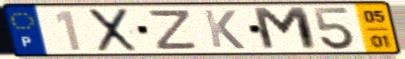1: (54, 9, 82, 52)
5: (310, 6, 357, 52)
K: (201, 8, 247, 50)
M: (250, 6, 322, 53)
X: (87, 7, 140, 54)
Z: (148, 8, 200, 51)
